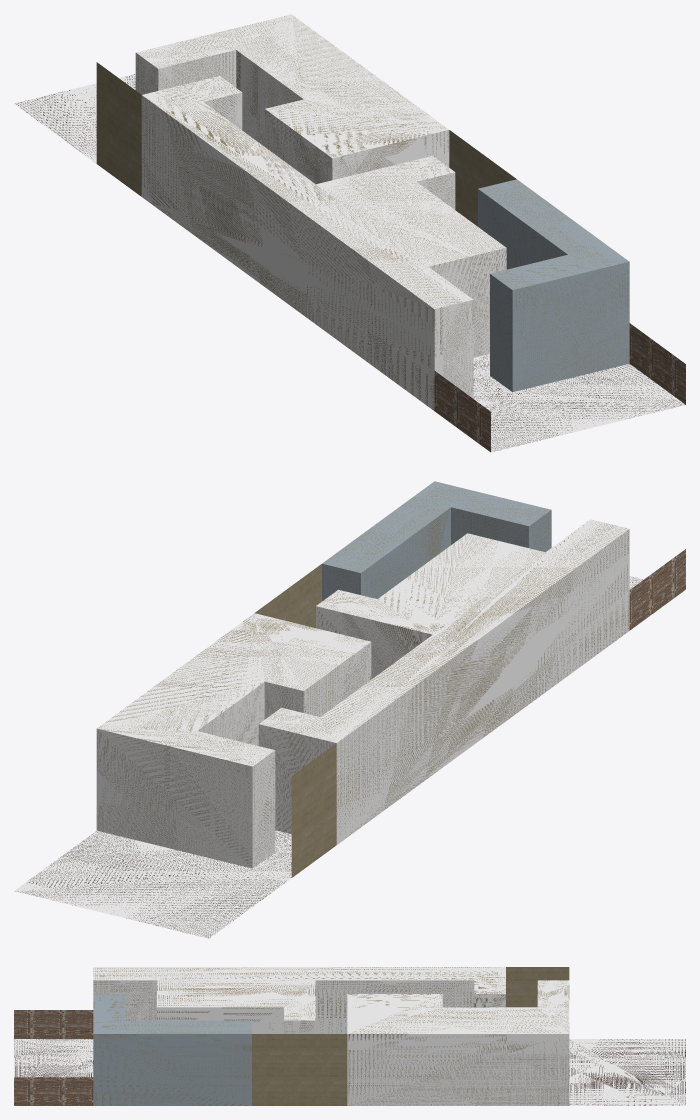
File: LabText.fbx
3 renders of one model, top to bottom at view 1: azimuth 30°, elevation 25°; view 2: azimuth 150°, elevation 25°; view 3: azimuth 270°, elevation 25°, orthographic. The views are drawn at different scales.
Parts seen in each view (by area): view 1: Model; view 2: Model; view 3: Model.
Boxes of the visible parts, x1=… form: Model: x1=14, y1=14, x2=685, y2=452; Model: x1=14, y1=481, x2=685, y2=938; Model: x1=14, y1=967, x2=685, y2=1105.
Size of the model in its own units: 5000 by 2500 by 21176.
